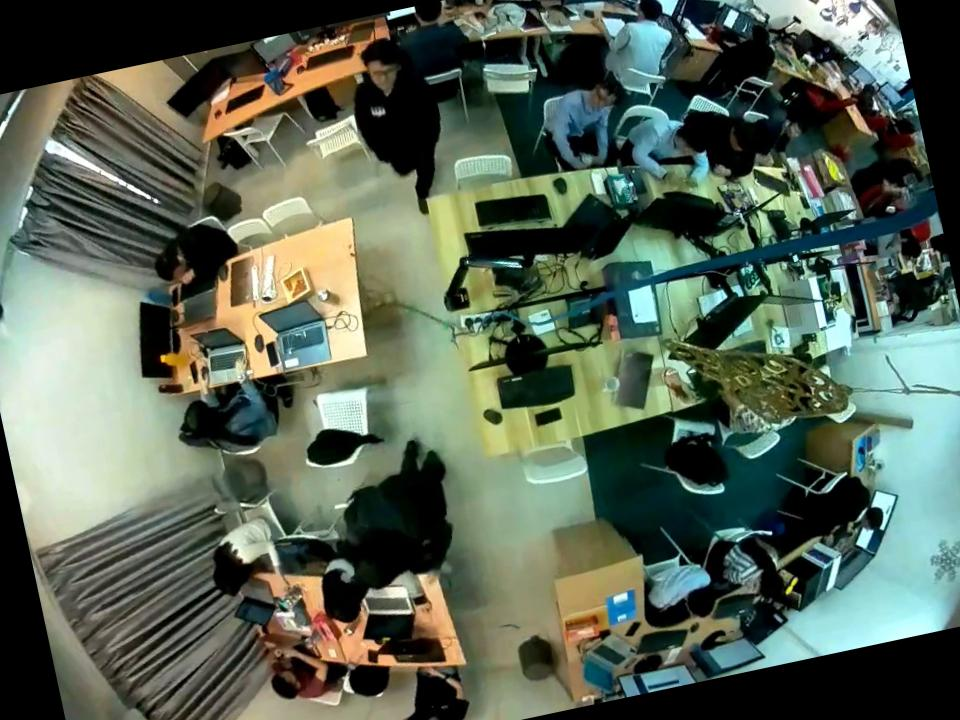employee_tag: (366, 103, 390, 120)
